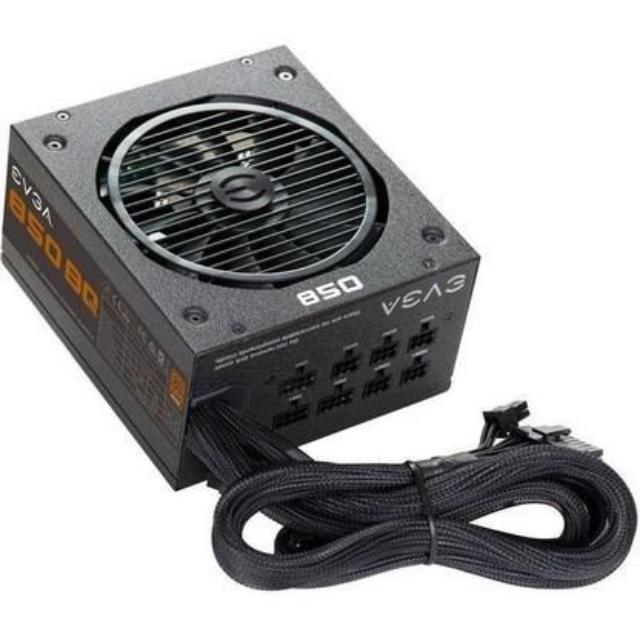PSU: (0, 37, 483, 517)
